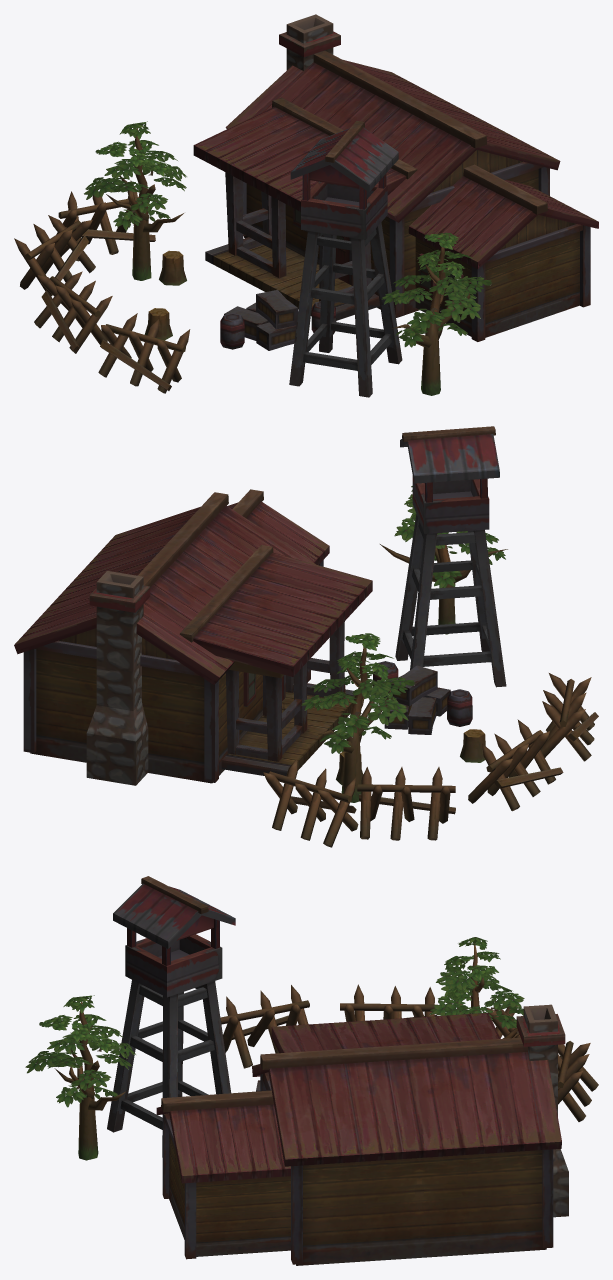
The model's file is WMEnemyCamp1.FBX.
The picture shows the model from 3 angles, top to bottom: view 1: azimuth 30°, elevation 25°; view 2: azimuth 150°, elevation 25°; view 3: azimuth 270°, elevation 25°; orthographic projection. The views are drawn at different scales.
Parts seen in each view (by area): view 1: yingdi2; view 2: yingdi2; view 3: yingdi2.
Part boxes in pixels (left/top/right/bottom): yingdi2: left=14, top=14, right=598, bottom=397; yingdi2: left=14, top=426, right=598, bottom=847; yingdi2: left=25, top=876, right=598, bottom=1265.
Bounding box in the file's own units: 1.14 × 0.5553 × 1.21.
Materials: 1 (1 with a texture image).
